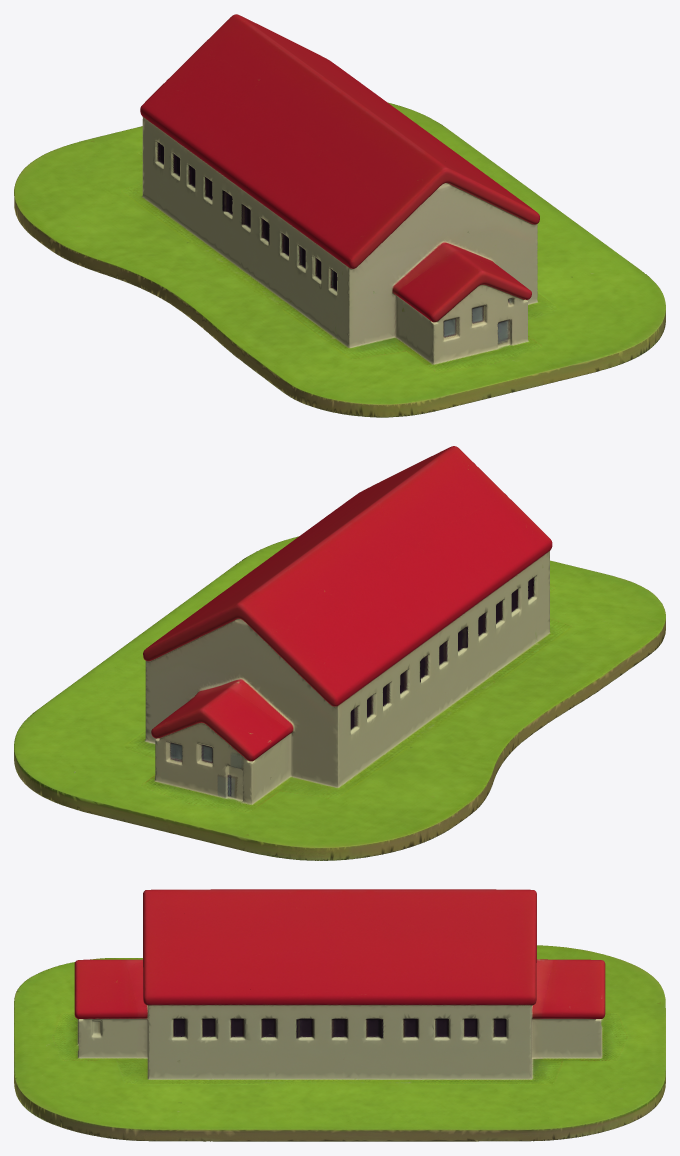
The model's file is haksong.glb.
3 views of the same model, one above another, from view 1: azimuth 30°, elevation 25°; view 2: azimuth 150°, elevation 25°; view 3: azimuth 270°, elevation 25° (orthographic). The views are drawn at different scales.
Visible parts, largest first — view 1: Mesh_0.006; view 2: Mesh_0.006; view 3: Mesh_0.006.
Boxes of the visible parts, x1=… form: Mesh_0.006: x1=14, y1=14, x2=665, y2=417; Mesh_0.006: x1=14, y1=446, x2=665, y2=860; Mesh_0.006: x1=14, y1=889, x2=665, y2=1141.
Bounding box in the file's own units: 29.44 × 11.83 × 43.88.
Materials: 1 (1 with a texture image).
